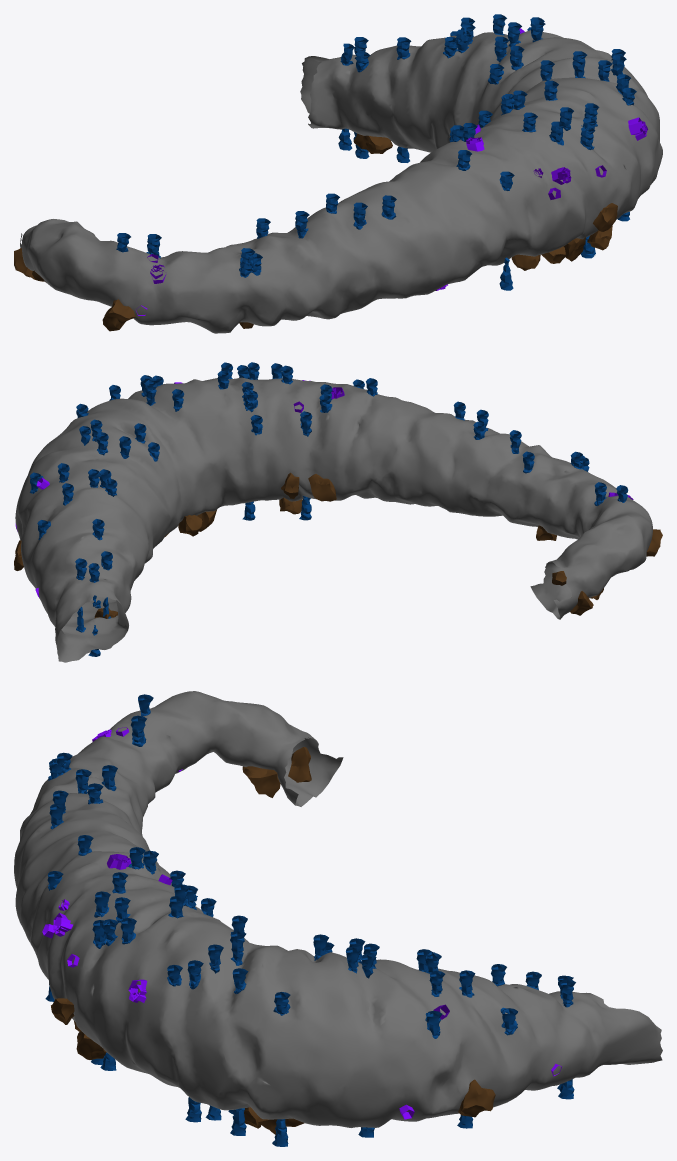
The model's file is M_Cave_Unfinished_v2_CO.fbx.
The picture shows the model from 3 angles, top to bottom: view 1: azimuth 30°, elevation 25°; view 2: azimuth 150°, elevation 25°; view 3: azimuth 270°, elevation 25°; orthographic projection. The views are drawn at different scales.
Visible parts, largest first — view 1: merge2; view 2: merge2; view 3: merge2.
Part boxes in pixels (x1=…): merge2: x1=14, y1=14, x2=662, y2=333; merge2: x1=14, y1=362, x2=662, y2=662; merge2: x1=14, y1=691, x2=662, y2=1146.
Size of the model in its own units: 268 by 74.03 by 212.
